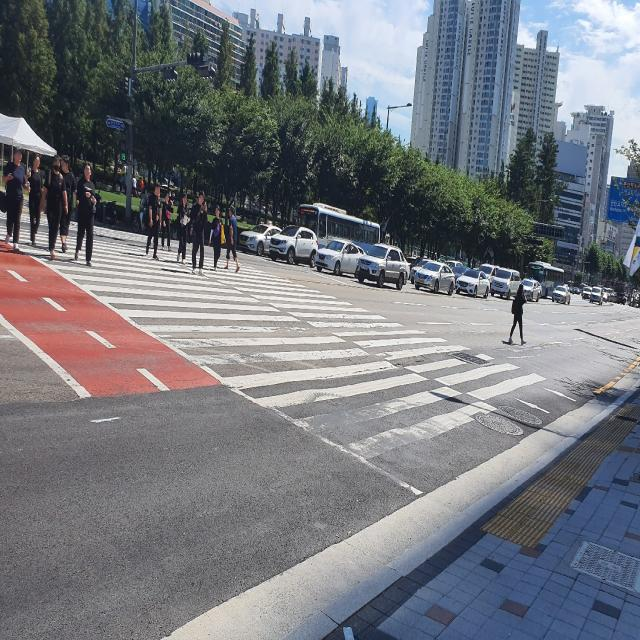횡단보도: (0, 224, 578, 460)
